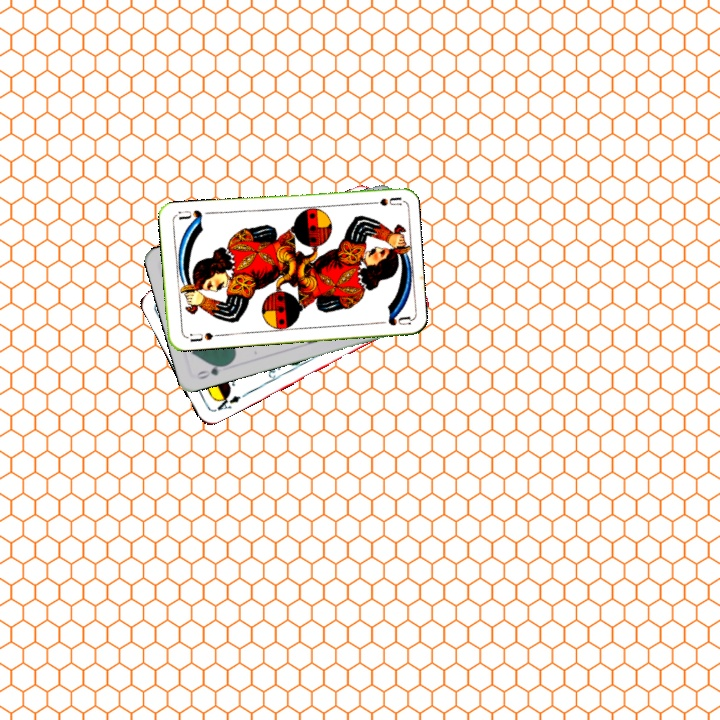EA: (210, 390, 243, 414)
GO: (193, 360, 231, 382)
SU: (362, 193, 402, 208), (186, 329, 222, 345)
